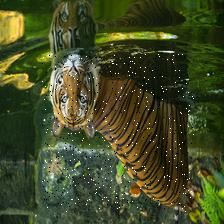tiger: (42, 54, 194, 212)
